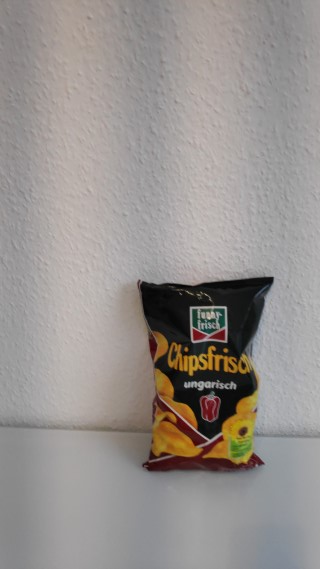chipsfrisch: (136, 275, 276, 474)
